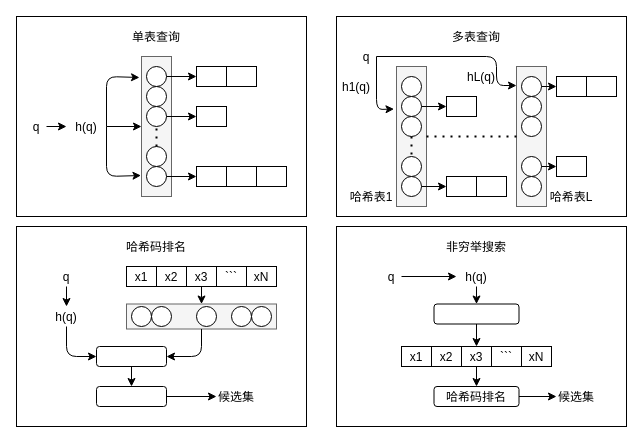
Image size: 643x443. Some labels were removed from this diagram. Here are the shapes that lost their labels. From the top down, the centre of each, then its label:
At (476,313): "哈希表查找".
At (131,356): "距离度量".
At (131,396): "最近邻选择".
